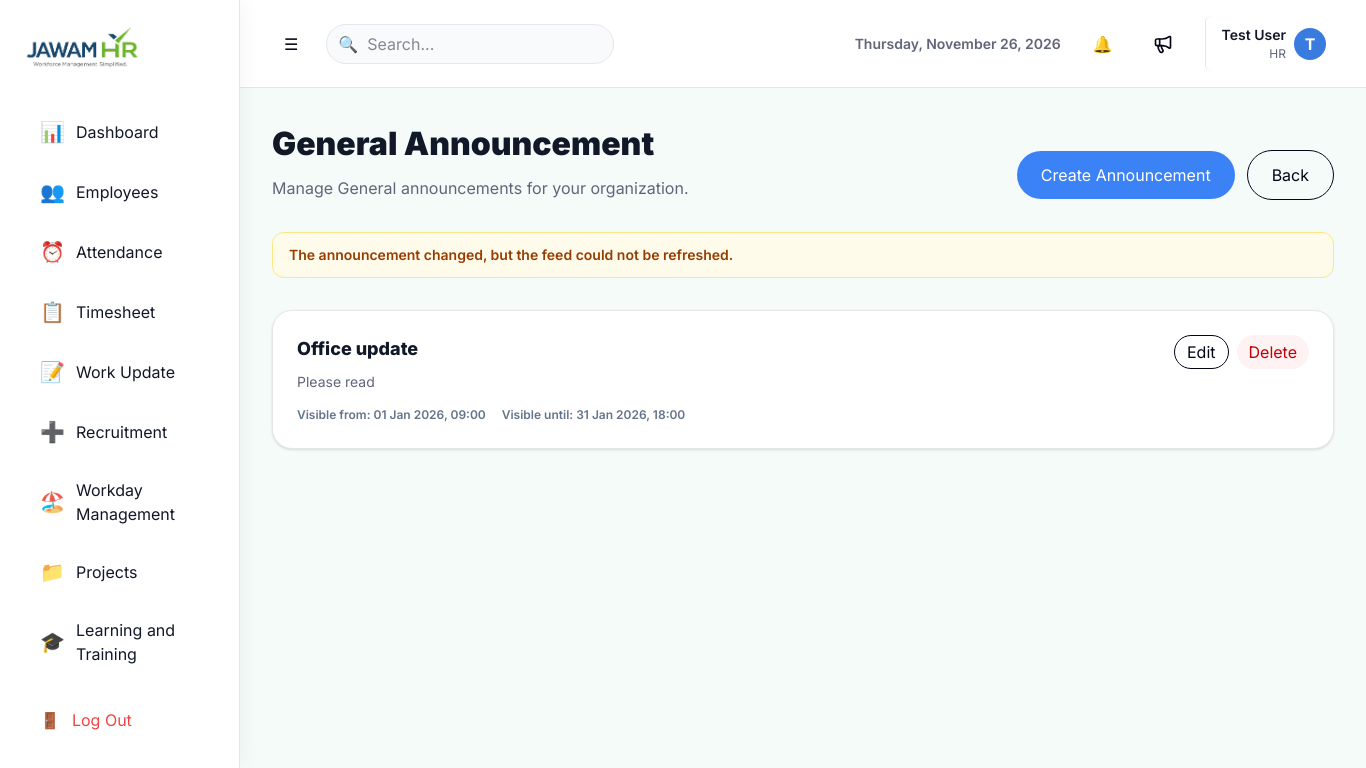
Test: Announcements page › reports successful mutation separately from synchronization warnings
Step 1. Click the button "Delete" → point(1273, 352), box 1236,335 -> 1309,369
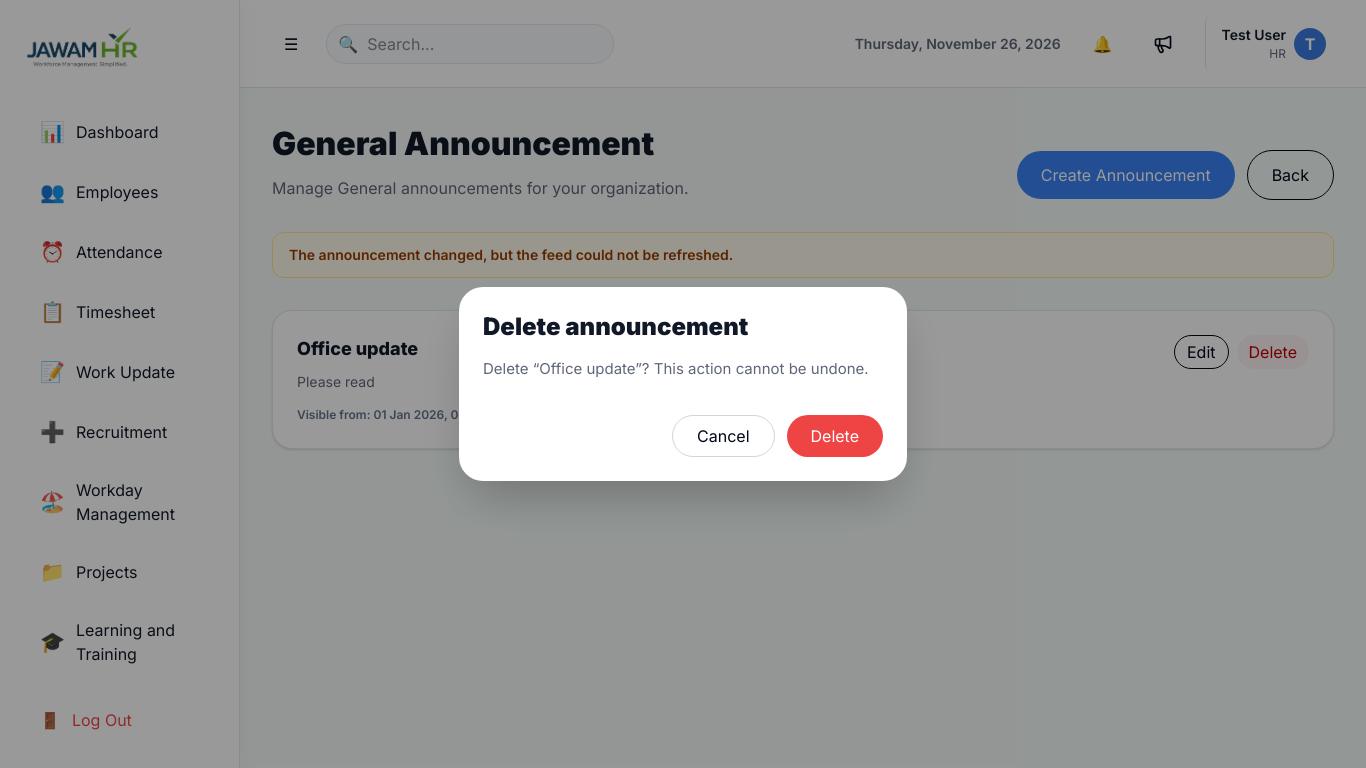
Step 2. Click the button "Delete" → point(835, 436), box 786,415 -> 883,457
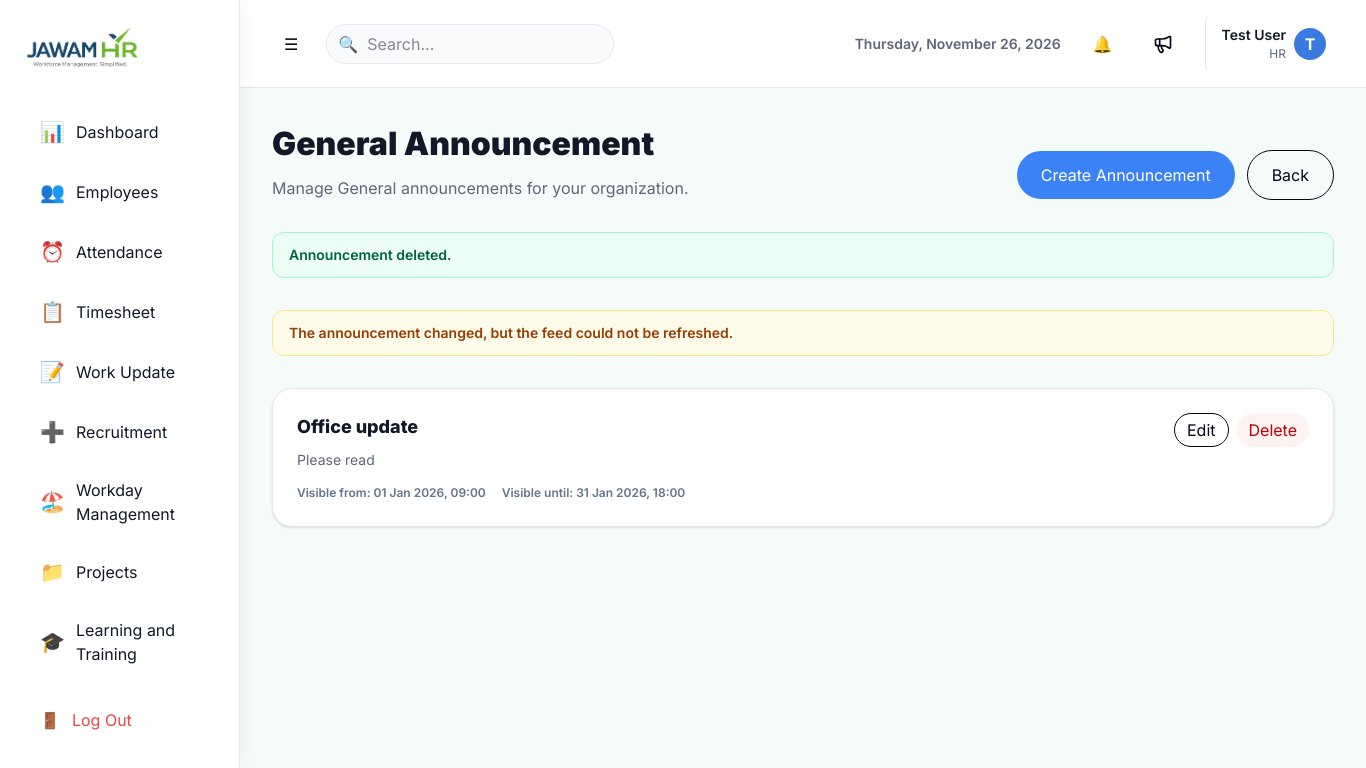
Expected: the text "The announcement changed, but the feed could not be refreshed." is shown, 272,310 -> 1334,356
Expected: the text "Announcement deleted." is shown, 272,232 -> 1334,278
